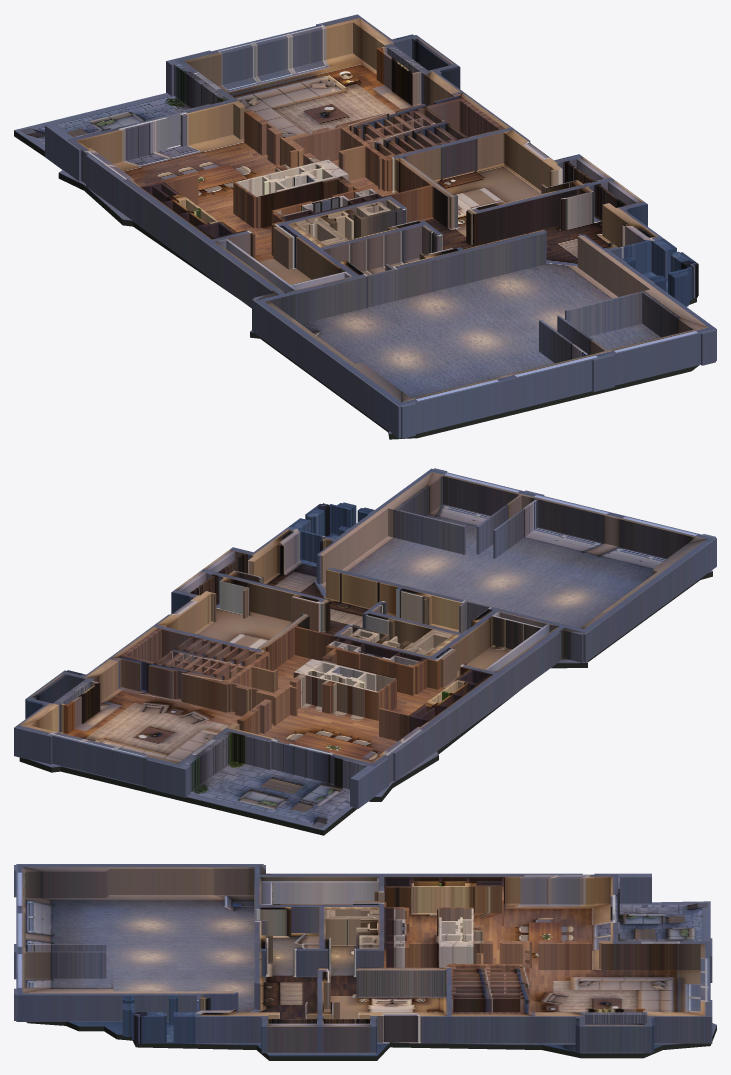
Rendered from magnolia-0.glb.
3 views of the same model, one above another, from view 1: azimuth 30°, elevation 25°; view 2: azimuth 150°, elevation 25°; view 3: azimuth 270°, elevation 25° (orthographic). The views are drawn at different scales.
Visible parts, largest first — view 1: walls, photo, base; view 2: walls, photo, base; view 3: walls, photo, base.
Boxes of the visible parts, x1,y1,x2,y2 form: walls: (45,14,716,438); photo: (14,53,686,433); base: (14,131,699,439); walls: (14,468,716,808); photo: (28,504,712,830); base: (19,572,712,835); walls: (14,864,712,1053); photo: (25,895,716,1056); base: (26,1022,716,1060).
Size of the model in its own units: 10.59 by 0.9296 by 18.9.
Materials: 3 (2 with a texture image).
